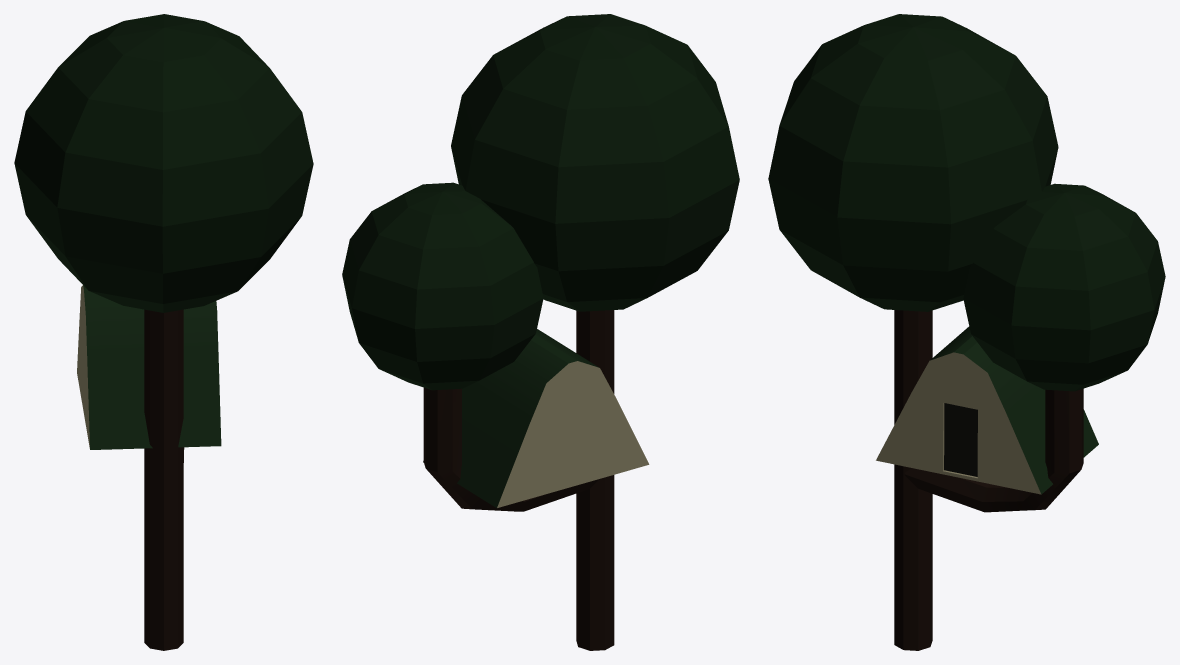
File: CreatureHouse.fbx
3 renders of one model, left to right at view 1: azimuth 30°, elevation 25°; view 2: azimuth 150°, elevation 25°; view 3: azimuth 270°, elevation 25°, orthographic.
Parts seen in each view (by area): view 1: CreatureHouse; view 2: CreatureHouse; view 3: CreatureHouse.
Boxes of the visible parts, x1,y1,x2,y2 form: CreatureHouse: [14, 14, 313, 650]; CreatureHouse: [342, 14, 739, 650]; CreatureHouse: [768, 14, 1165, 650].
Size of the model in its own units: 5.5 by 11.16 by 6.53.
